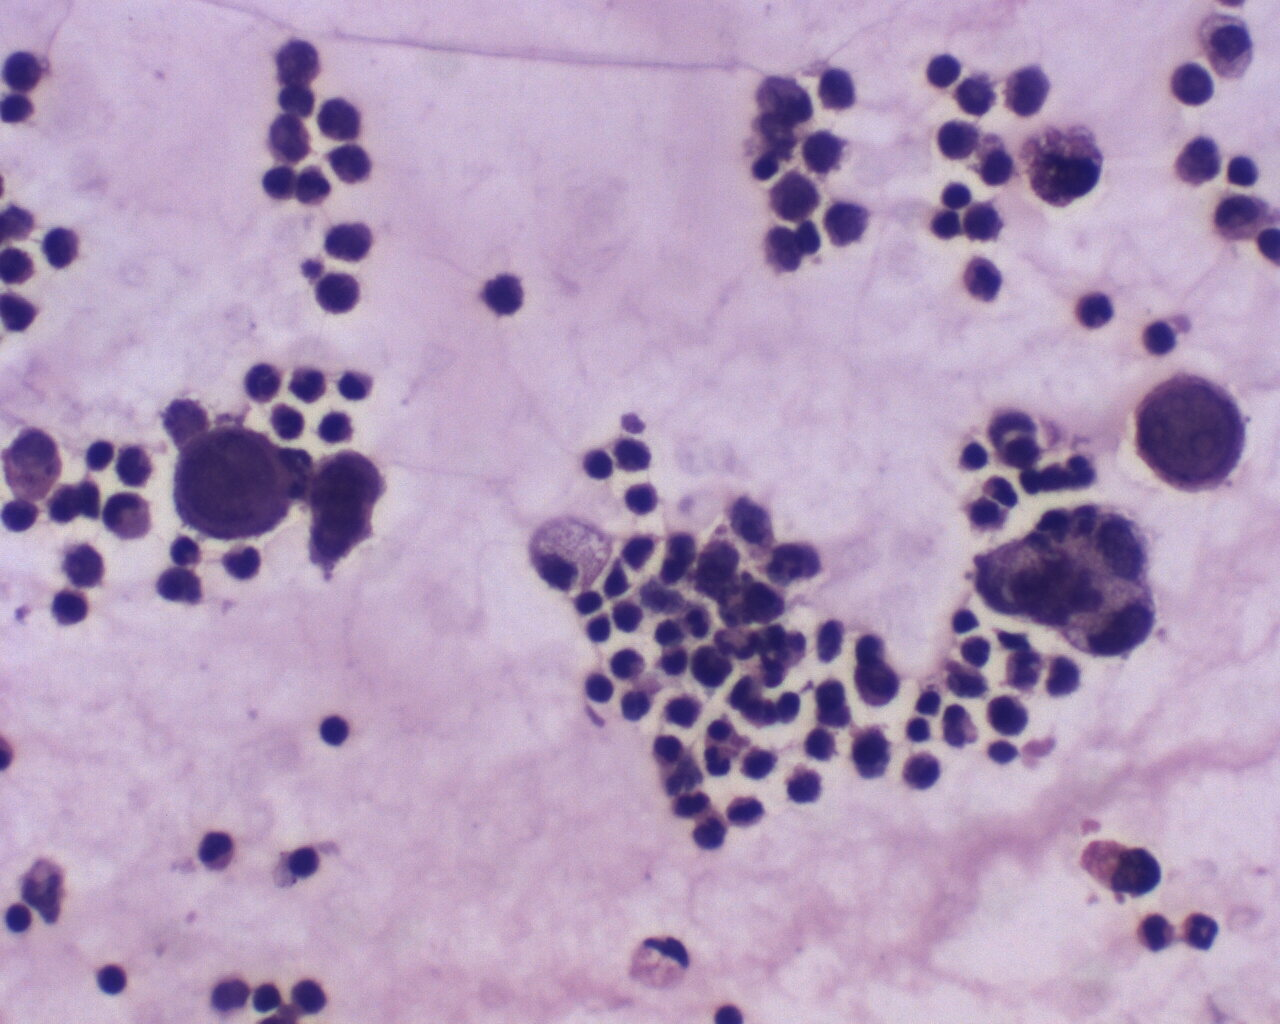ab: (1128, 368, 1248, 496), (168, 423, 290, 539), (852, 659, 900, 711)
histo: (525, 509, 616, 598), (616, 927, 700, 998)
lymph: (311, 706, 355, 750), (920, 51, 967, 92), (1223, 149, 1264, 191), (91, 957, 132, 998), (577, 440, 615, 483), (582, 669, 619, 709), (938, 179, 976, 212)
neutro: (1073, 286, 1121, 334), (197, 822, 238, 877), (1178, 905, 1219, 951), (241, 360, 284, 404)
